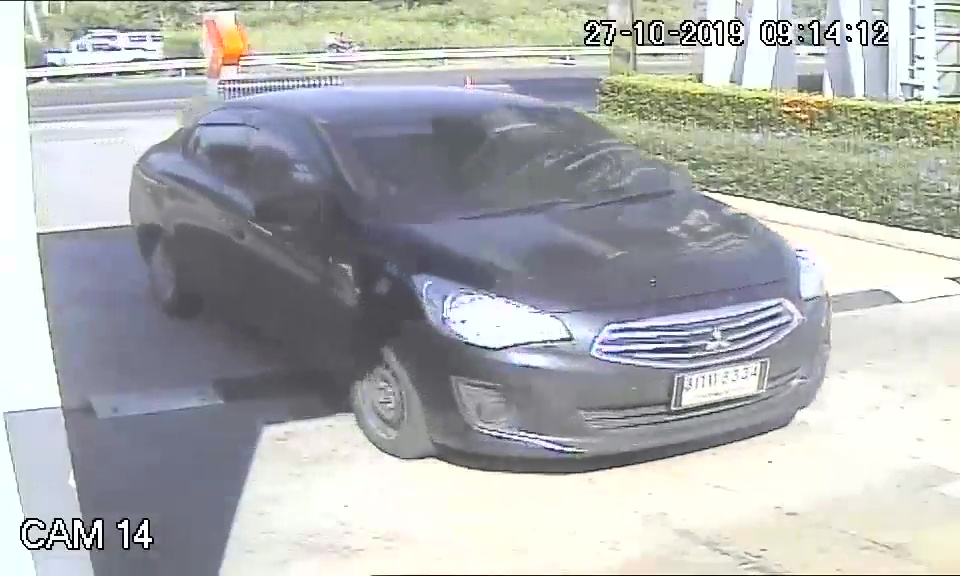sedan: (125, 84, 836, 474)
